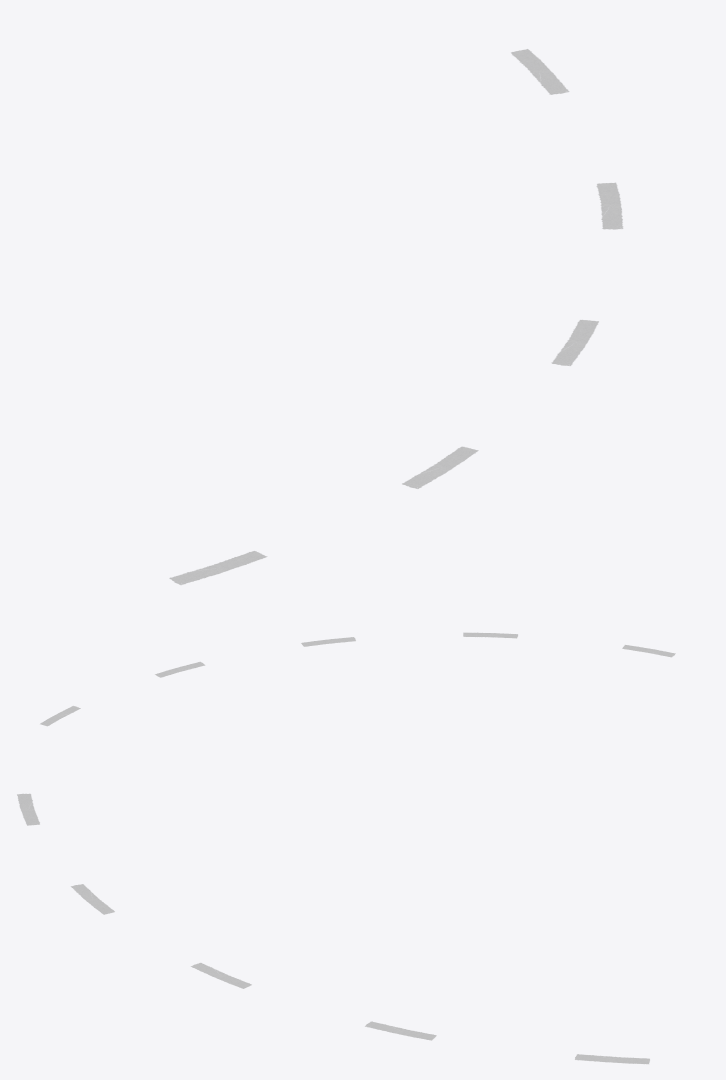
Rendered from q-downtown-decal-curve-4laneshort.glb.
The picture shows the model from 3 angles, top to bottom: view 1: azimuth 30°, elevation 25°; view 2: azimuth 150°, elevation 25°; view 3: azimuth 270°, elevation 25°; orthographic projection. The views are drawn at different scales.
Parts seen in each view (by area): view 1: Decal_Curve_4LaneShort; view 2: Decal_Curve_4LaneShort; view 3: Decal_Curve_4LaneShort.
Boxes of the visible parts, x1=… form: Decal_Curve_4LaneShort: x1=169, y1=49, x2=622, y2=584; Decal_Curve_4LaneShort: x1=40, y1=632, x2=675, y2=726; Decal_Curve_4LaneShort: x1=17, y1=794, x2=649, y2=1063.
Bounding box in the file's own units: 9.1 × 0 × 9.1.
Materials: 1 (1 with a texture image).
